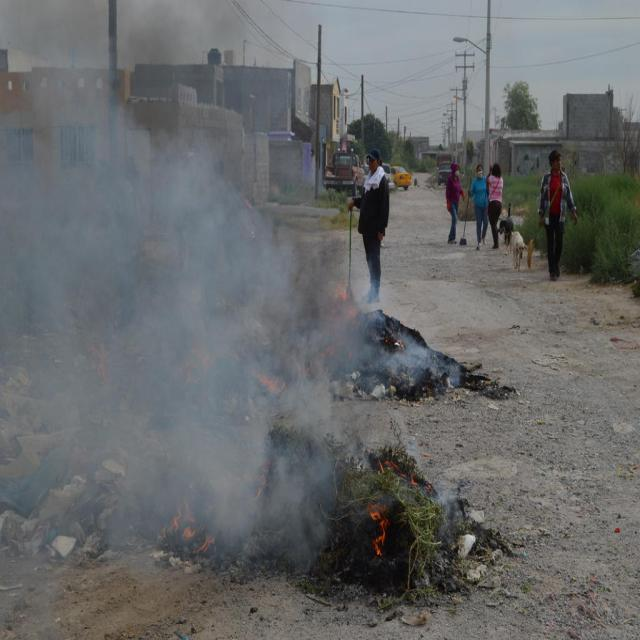smoke: (0, 206, 328, 532), (13, 23, 271, 203)
